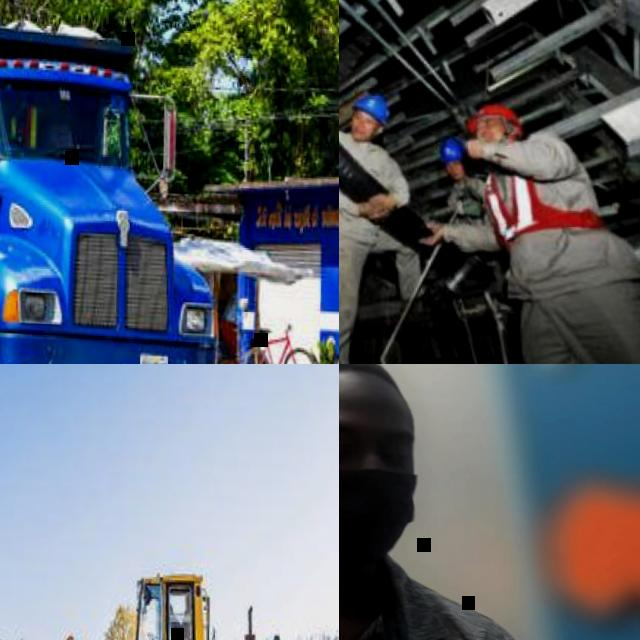Hardhat: (466, 101, 523, 133), (347, 92, 390, 126), (438, 138, 463, 163)
NO-Hardhat: (339, 364, 417, 413)
NO-Mask: (339, 459, 422, 567), (480, 126, 512, 145), (351, 125, 368, 139), (451, 164, 466, 178)
NO-Safety Vest: (339, 566, 509, 640), (339, 136, 385, 215), (448, 180, 491, 216)
Person: (339, 364, 548, 640), (410, 93, 640, 282), (339, 89, 432, 321), (440, 136, 500, 222)
Safety Vest: (481, 164, 597, 244)
vehicle: (0, 15, 233, 364), (0, 550, 311, 640)
